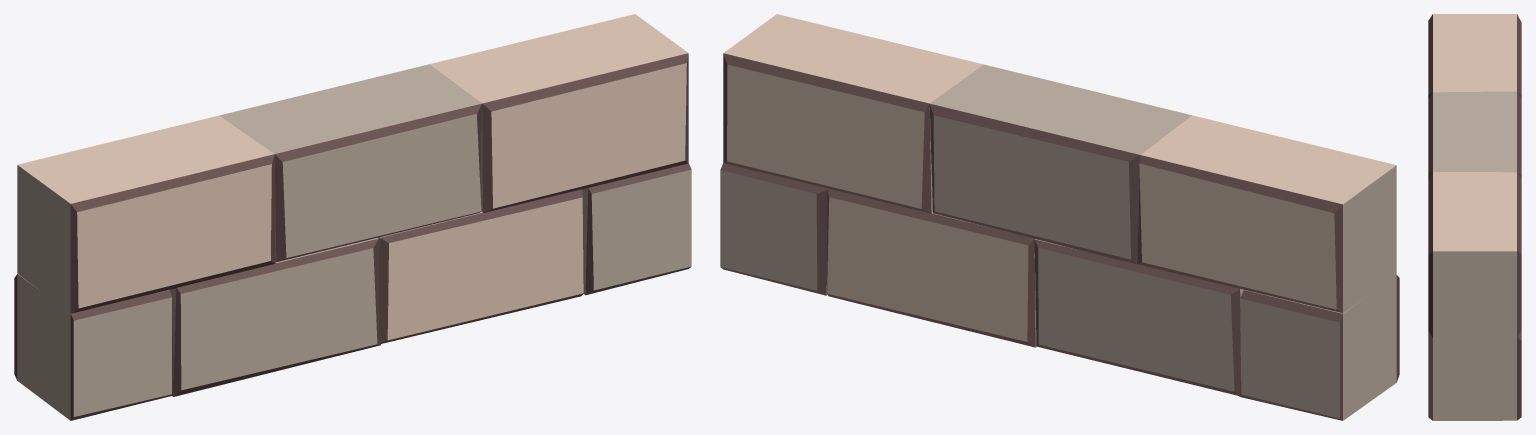
The model's file is greek_wall_1_short.fbx.
3 renders of one model, left to right at view 1: azimuth 30°, elevation 25°; view 2: azimuth 150°, elevation 25°; view 3: azimuth 270°, elevation 25°, orthographic. The views are drawn at different scales.
Visible parts, largest first — view 1: Cube.014; view 2: Cube.014; view 3: Cube.014.
Part boxes in pixels (left/top/right/bottom): Cube.014: left=14, top=14, right=691, bottom=420; Cube.014: left=720, top=14, right=1399, bottom=420; Cube.014: left=1428, top=14, right=1521, bottom=420.
Size of the model in its own units: 300 by 101 by 50.02.
